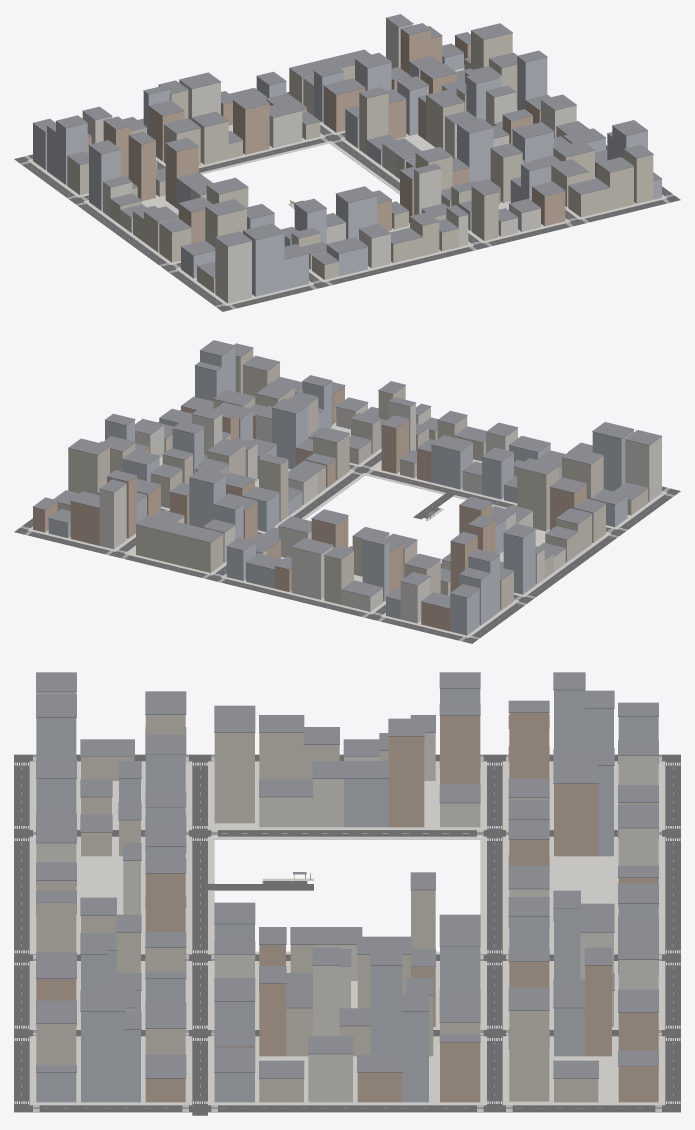
File: city.glb
3 views of the same model, one above another, from view 1: azimuth 30°, elevation 25°; view 2: azimuth 150°, elevation 25°; view 3: azimuth 270°, elevation 25° (orthographic). The views are drawn at different scales.
Bounding box in the file's own units: 382 × 45.35 × 299.
